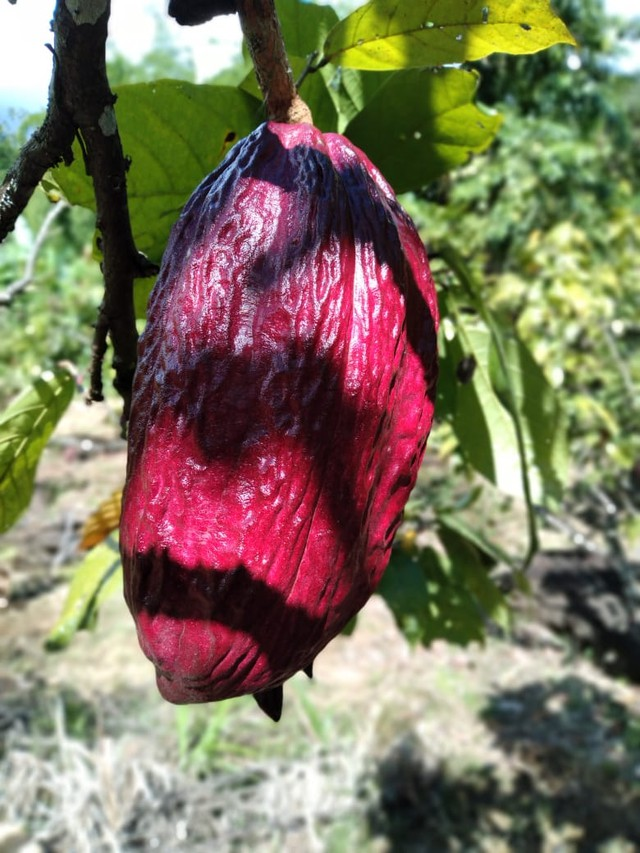Health: (103, 103, 447, 715)
